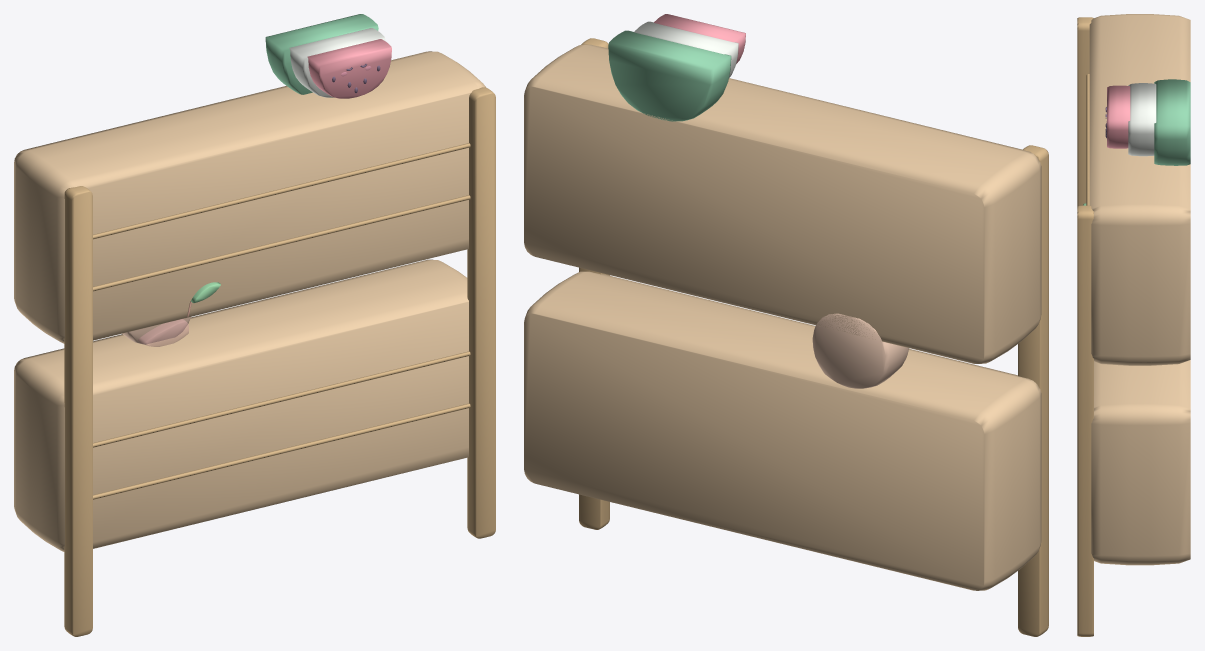
File: decor_1_classic.glb
The picture shows the model from 3 angles, left to right: view 1: azimuth 30°, elevation 25°; view 2: azimuth 150°, elevation 25°; view 3: azimuth 270°, elevation 25°; orthographic projection. The views are drawn at different scales.
Parts seen in each view (by area): view 1: decor_1_classic; view 2: decor_1_classic; view 3: decor_1_classic.
Boxes of the visible parts, left/top/right/bottom form: decor_1_classic: left=14, top=14, right=495, bottom=636; decor_1_classic: left=524, top=14, right=1048, bottom=636; decor_1_classic: left=1077, top=14, right=1190, bottom=636.
Size of the model in its own units: 17.42 by 19.18 by 4.11.
